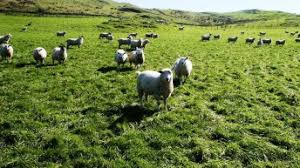sheep: (135, 70, 174, 106), (176, 56, 196, 87), (52, 45, 71, 67), (114, 46, 133, 67), (130, 51, 149, 70), (30, 46, 48, 62), (116, 36, 133, 51), (1, 38, 13, 59), (101, 33, 118, 47), (67, 36, 84, 48), (56, 29, 70, 41), (259, 36, 272, 48), (273, 37, 286, 48), (130, 39, 143, 49), (139, 38, 149, 51), (225, 35, 238, 45), (127, 32, 138, 43), (243, 36, 255, 46), (151, 31, 160, 44), (203, 31, 214, 41), (289, 28, 300, 38), (256, 29, 266, 39), (210, 32, 219, 41), (144, 33, 154, 41), (177, 24, 186, 31)
